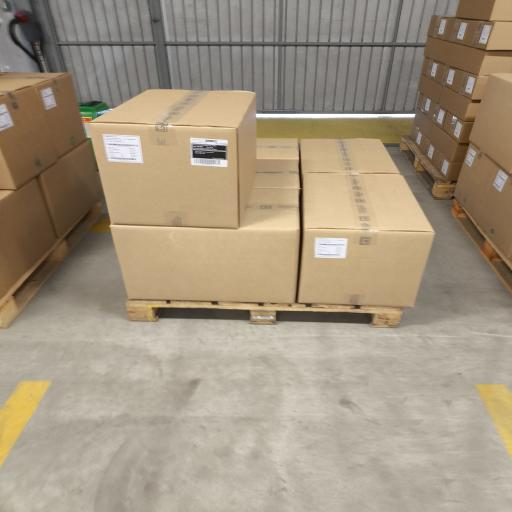pallet: (0, 202, 102, 328), (127, 300, 402, 327), (452, 200, 511, 293), (400, 136, 455, 199)
